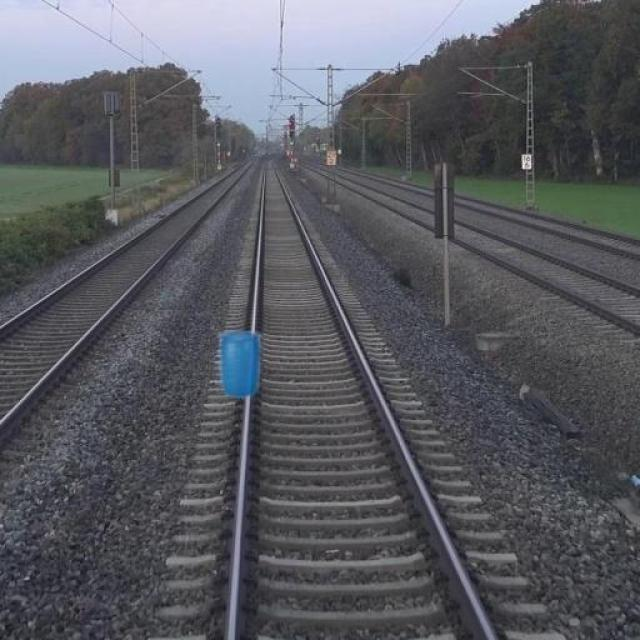Other_objects: (210, 330, 267, 404)
